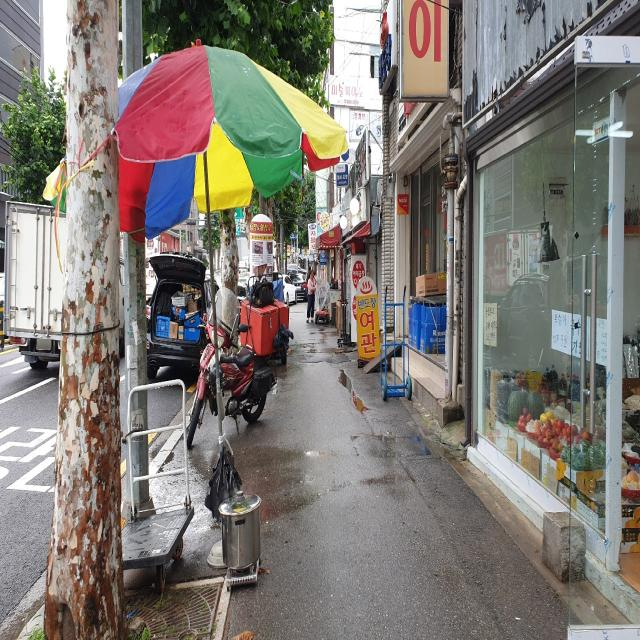car: (4, 200, 124, 372), (146, 254, 222, 380)
motorbike: (187, 287, 277, 447)
